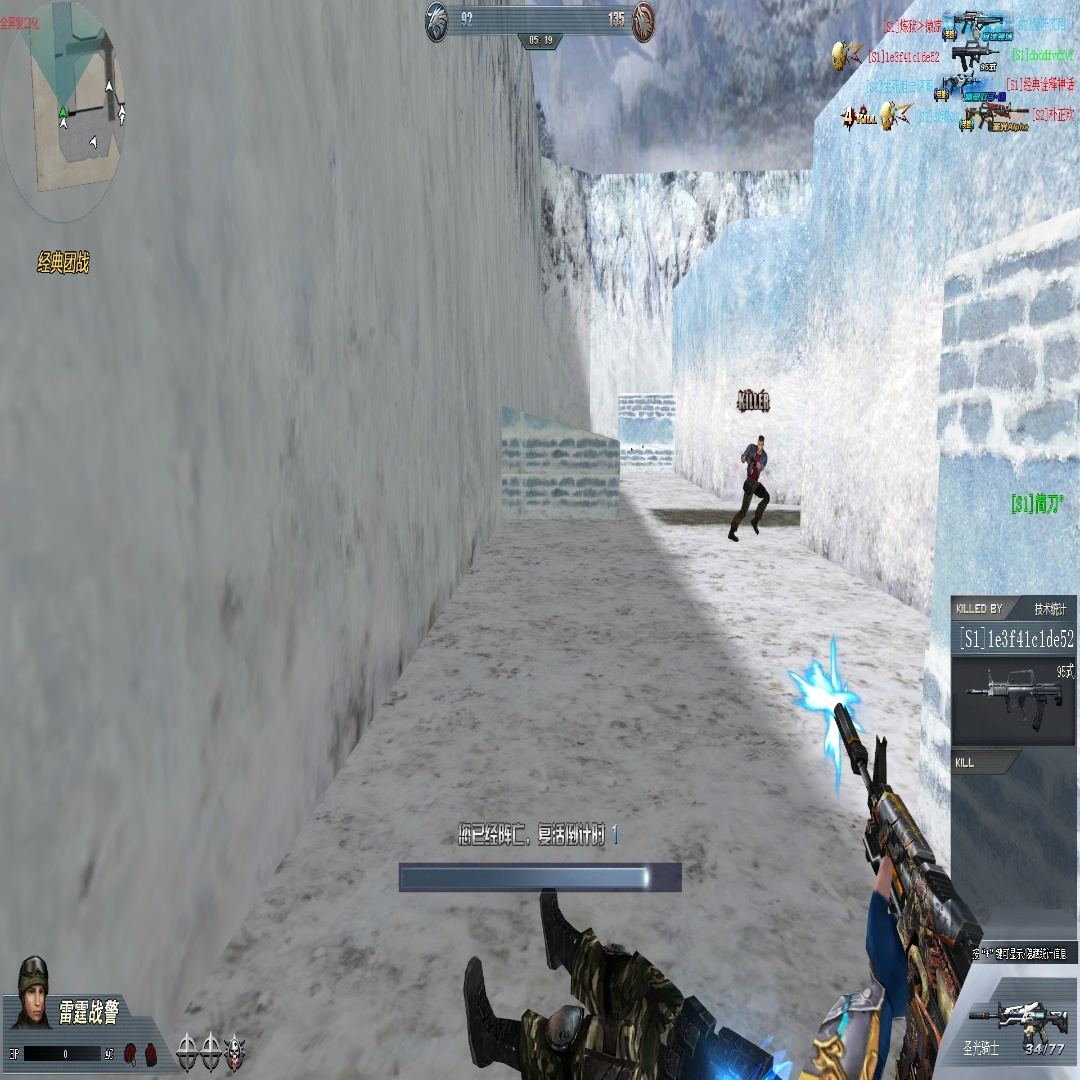t: (727, 433, 770, 541)
